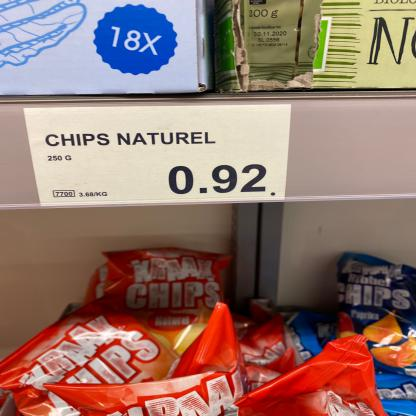prtg: (24, 104, 296, 208)
